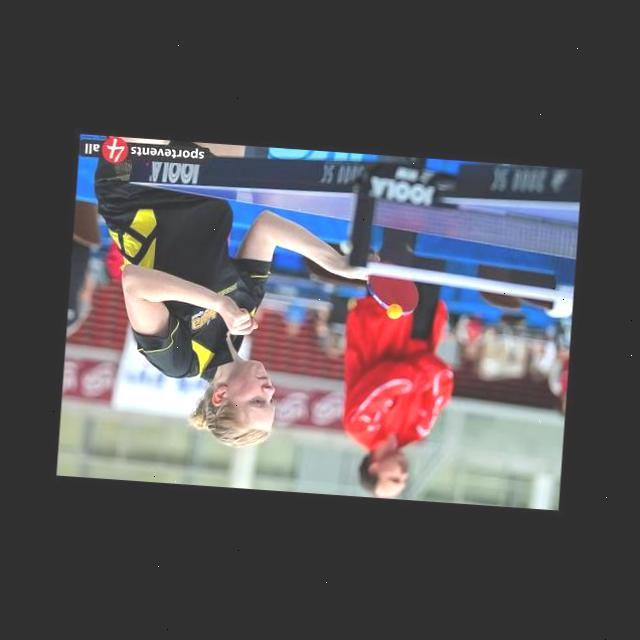ping-pong-ball: (384, 302, 402, 318)
